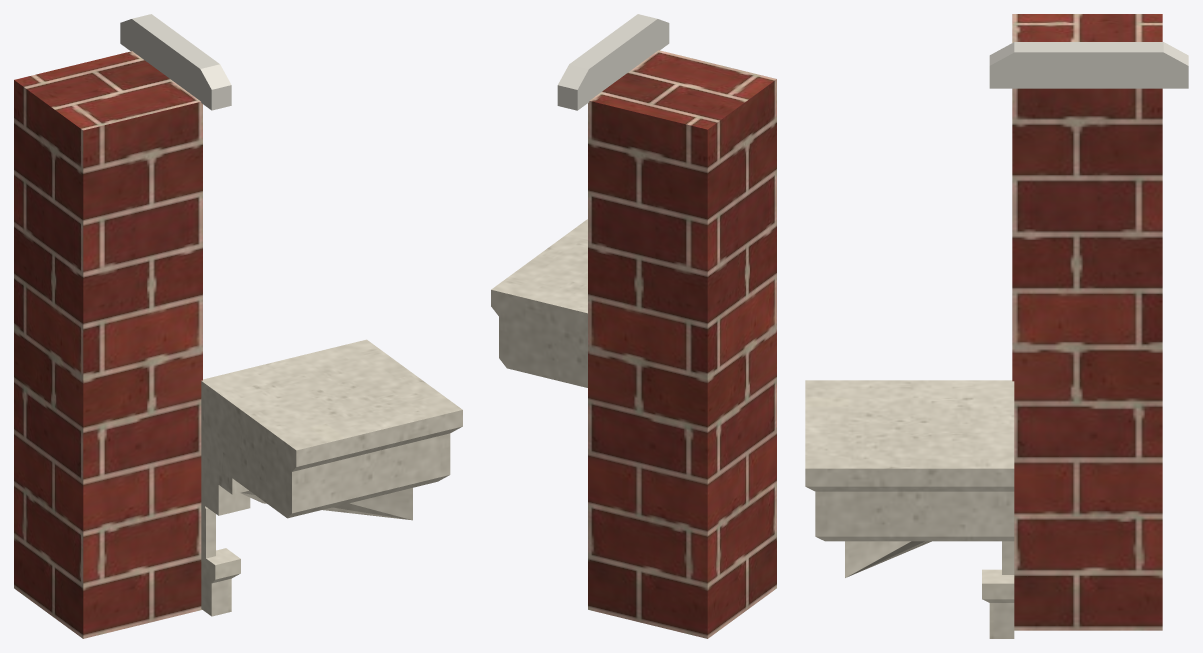
Rendered from corner_parapet.glb.
3 views of the same model, side by side, from view 1: azimuth 30°, elevation 25°; view 2: azimuth 150°, elevation 25°; view 3: azimuth 270°, elevation 25° (orthographic). The views are drawn at different scales.
Parts seen in each view (by area): view 1: corner_parapet_brick, corner_parapet_trim, corner_parapet_coping; view 2: corner_parapet_brick, corner_parapet_trim, corner_parapet_coping; view 3: corner_parapet_brick, corner_parapet_trim, corner_parapet_coping.
Boxes of the visible parts, <box> form: corner_parapet_brick: <box>14,51,202,638</box>; corner_parapet_trim: <box>201,339,462,616</box>; corner_parapet_coping: <box>120,14,231,110</box>; corner_parapet_brick: <box>588,50,776,638</box>; corner_parapet_trim: <box>491,219,587,387</box>; corner_parapet_coping: <box>557,14,669,110</box>; corner_parapet_brick: <box>1012,14,1162,630</box>; corner_parapet_trim: <box>805,380,1014,638</box>; corner_parapet_coping: <box>989,42,1188,88</box>.
Size of the model in its own units: 0.718 by 1.3 by 0.77.
Materials: 3 (2 with a texture image).
